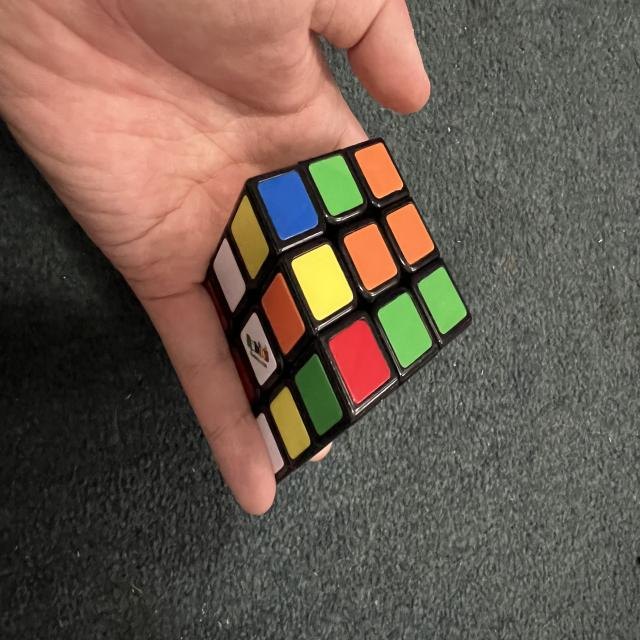blue: (255, 166, 321, 242)
center: (340, 221, 401, 293), (233, 312, 283, 386)
green: (372, 291, 438, 370), (288, 353, 348, 436), (412, 265, 472, 336), (307, 150, 365, 218)
orange: (253, 272, 312, 355), (340, 221, 401, 293), (384, 201, 438, 266), (352, 138, 405, 201)
red: (322, 317, 398, 407), (227, 346, 258, 403), (202, 280, 231, 332)
white: (233, 312, 283, 386), (205, 238, 253, 313), (251, 412, 287, 474)
yellow: (288, 242, 357, 323), (220, 195, 278, 280), (264, 386, 315, 460)
